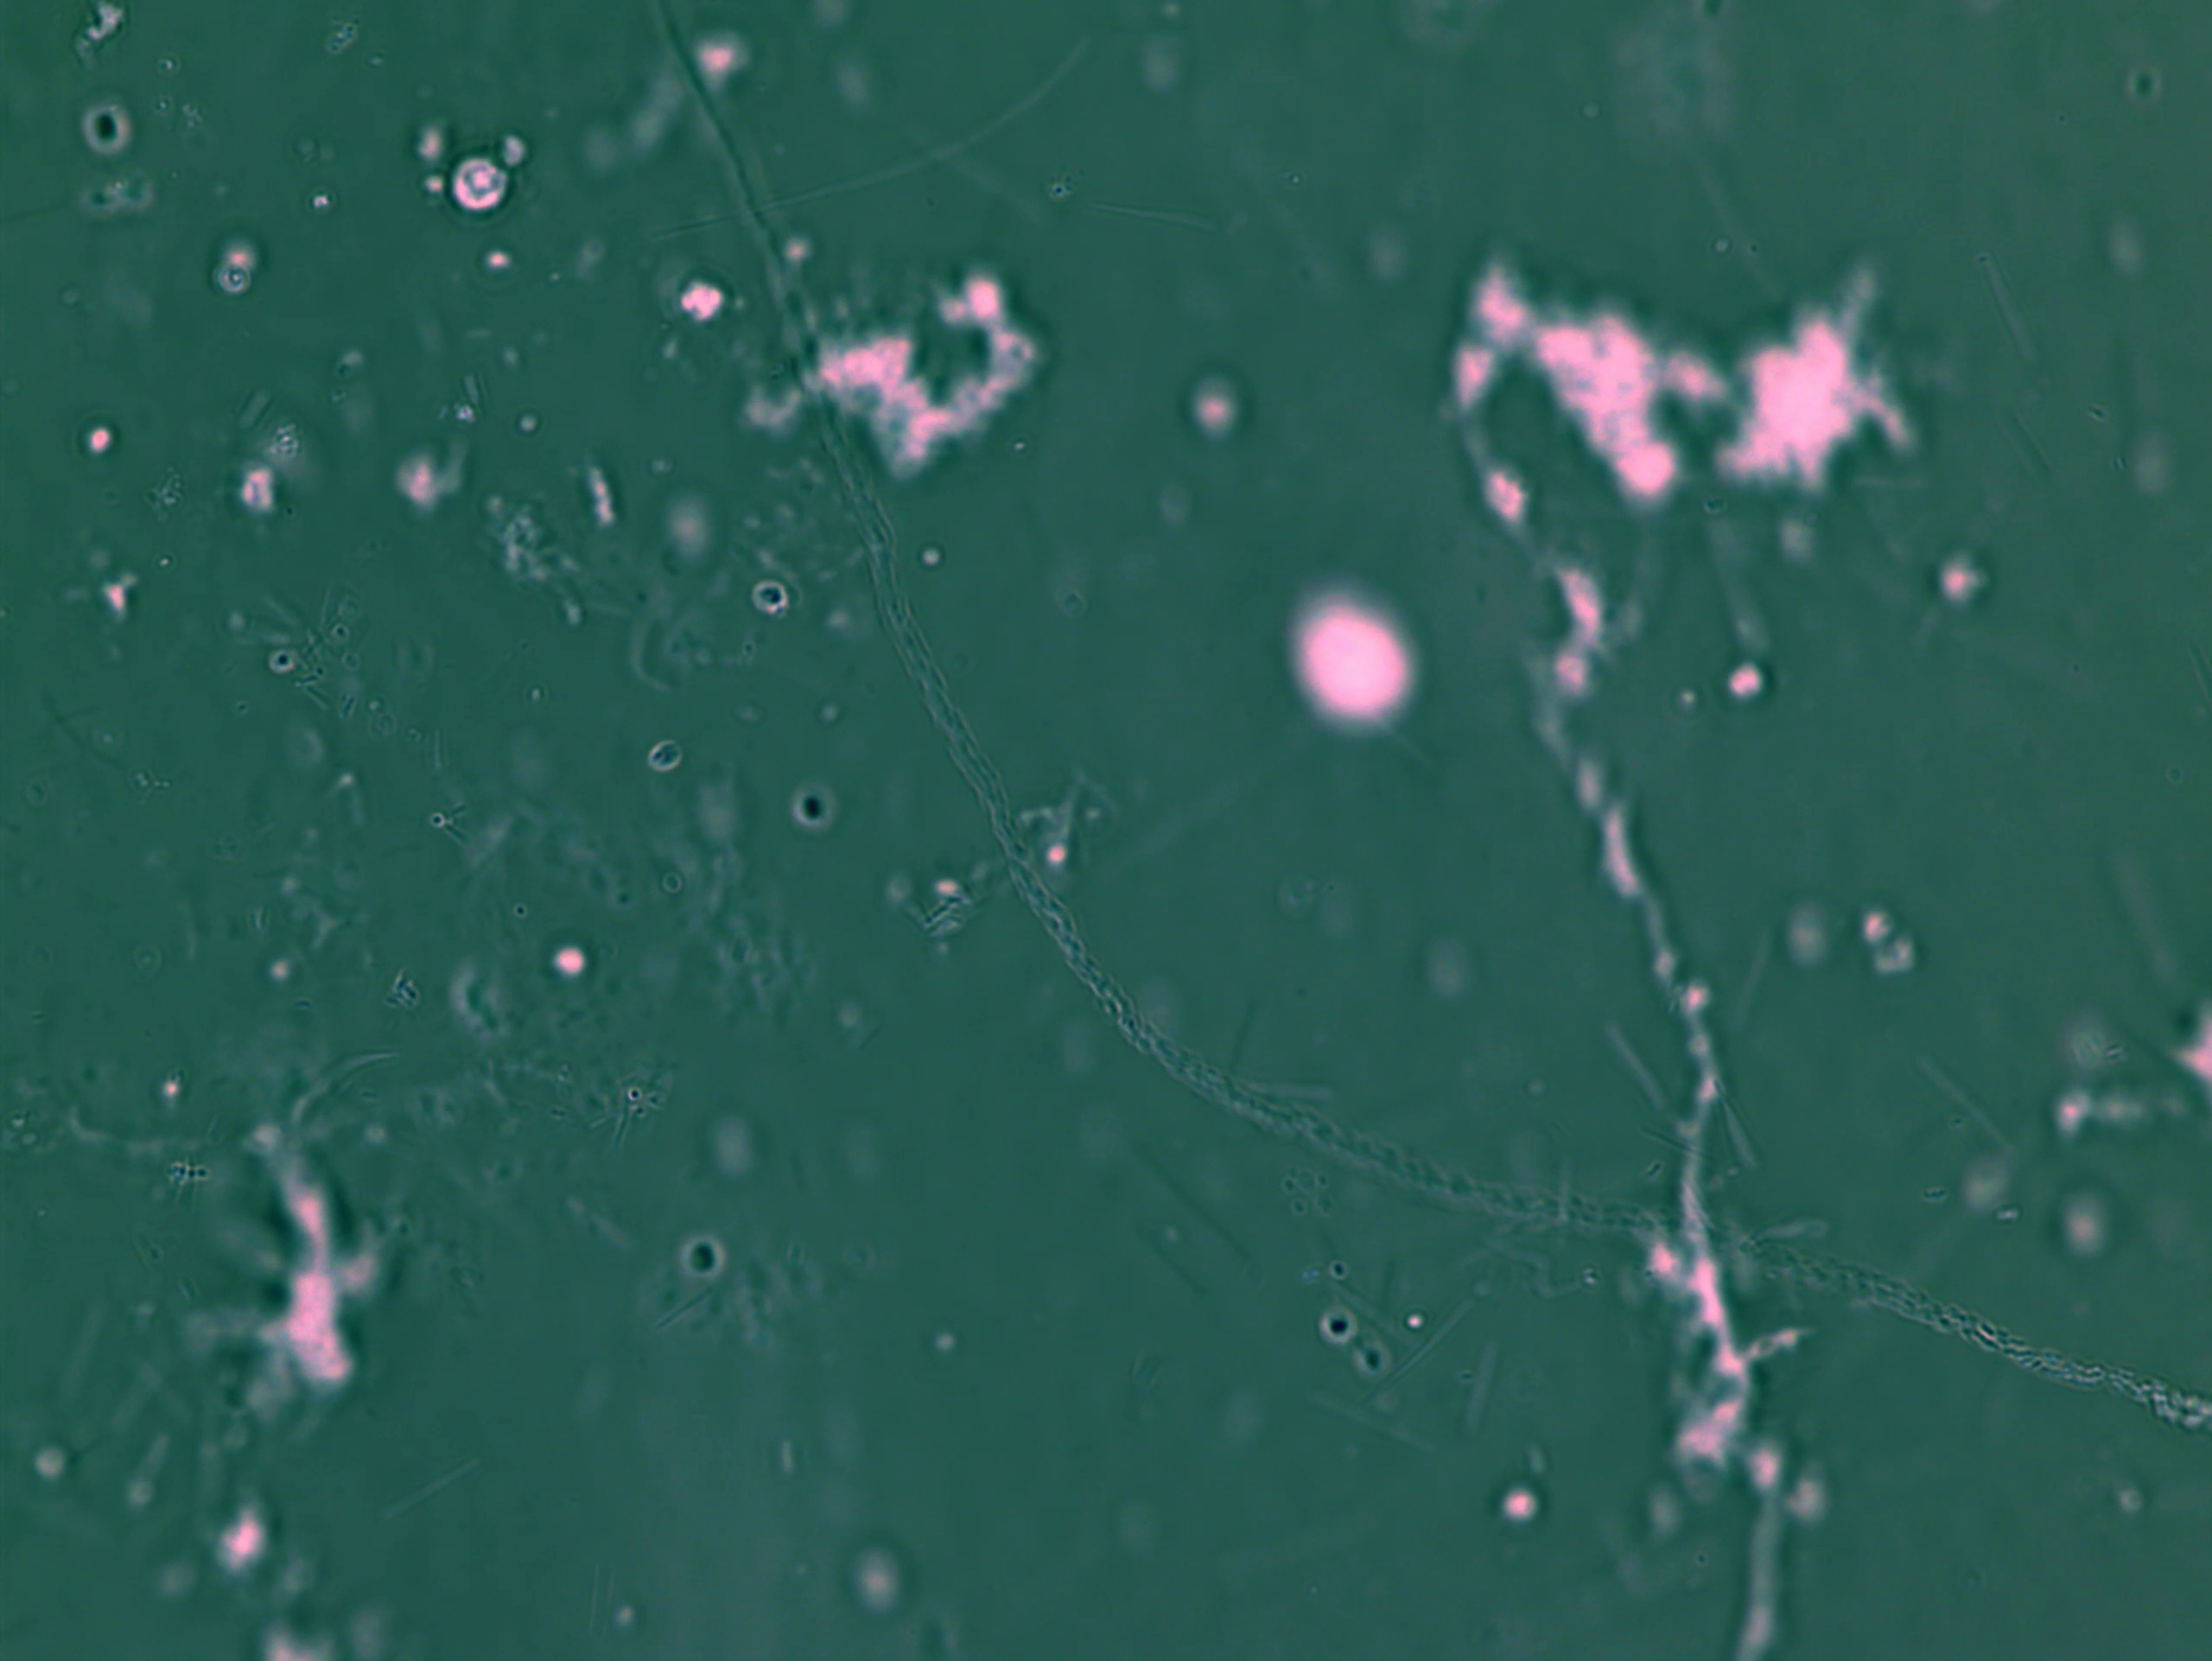depth:80: (1251, 546, 1465, 755)
